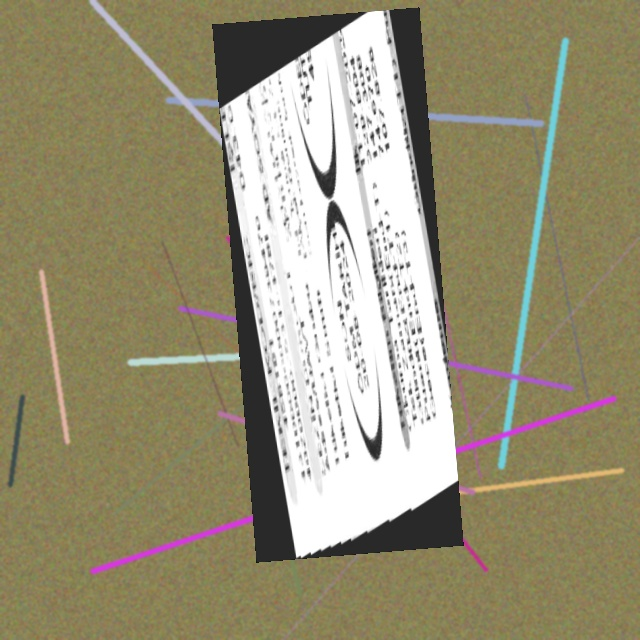electricity-bill: (212, 6, 464, 562)
